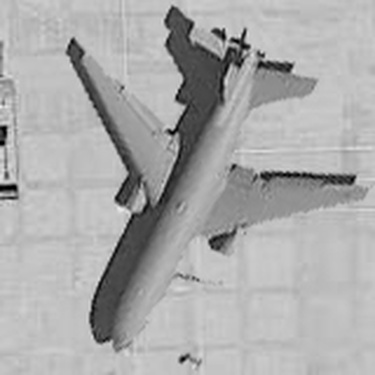airplane: (61, 4, 373, 362)
